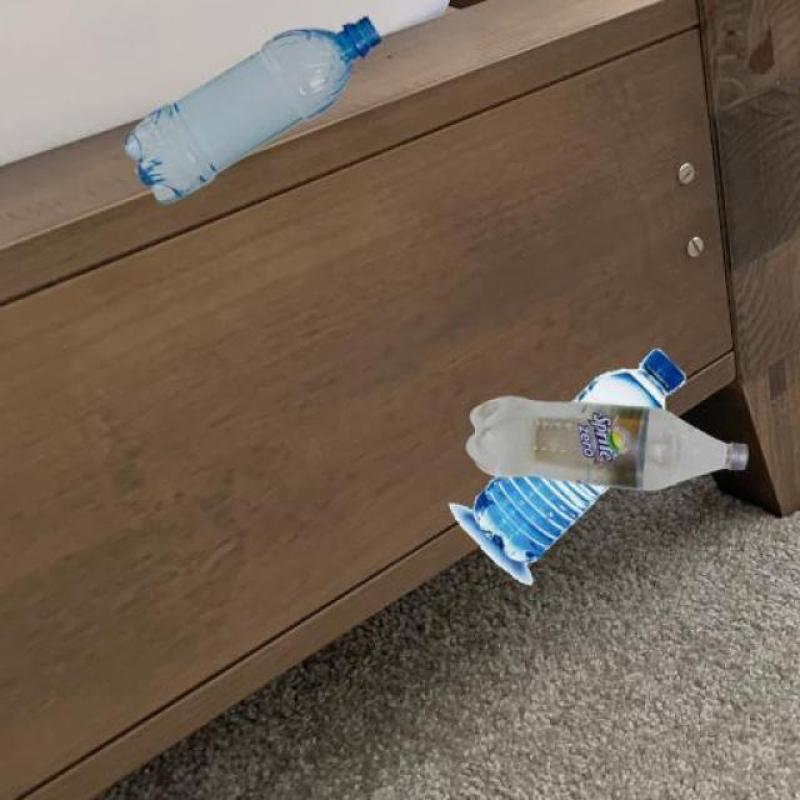botella: (463, 343, 687, 559), (127, 20, 383, 200), (470, 388, 744, 500)
